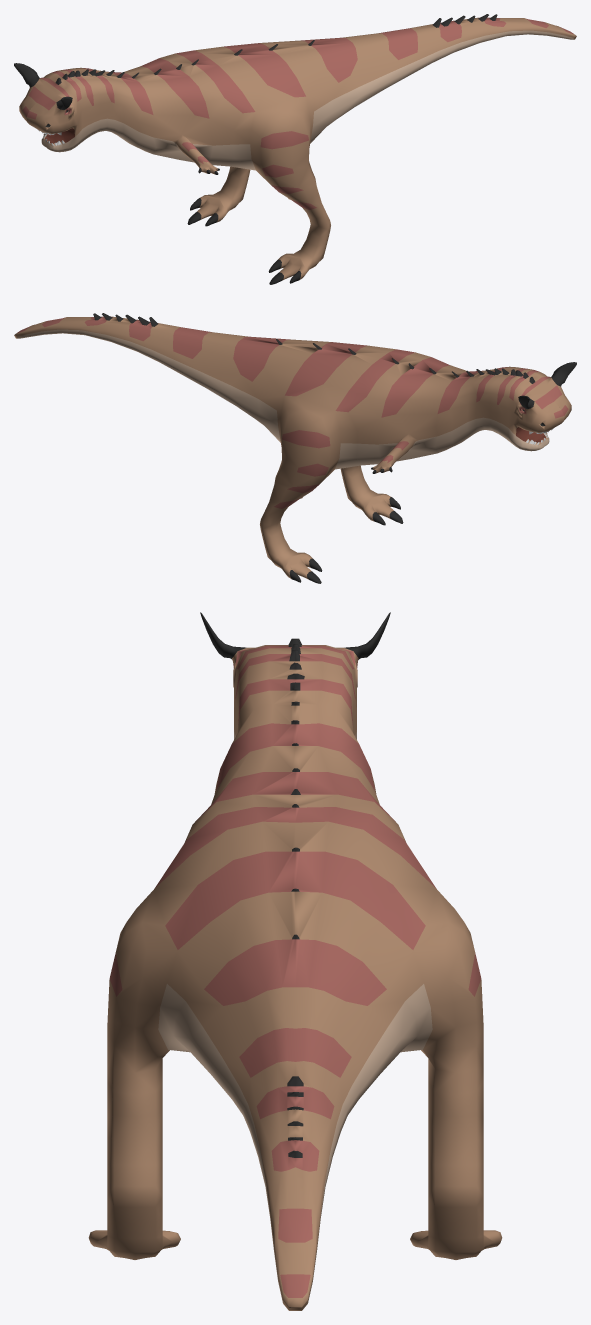
The model's file is carnotaurus.glb.
3 views of the same model, one above another, from view 1: azimuth 30°, elevation 25°; view 2: azimuth 150°, elevation 25°; view 3: azimuth 270°, elevation 25° (orthographic). The views are drawn at different scales.
Parts seen in each view (by area): view 1: Cube; view 2: Cube; view 3: Cube.
Part boxes in pixels (x1,y1,x2,y2): Cube: (14, 14, 576, 284); Cube: (14, 313, 576, 583); Cube: (88, 612, 502, 1310).
Bounding box in the file's own units: 9.53 × 3.67 × 3.11.
